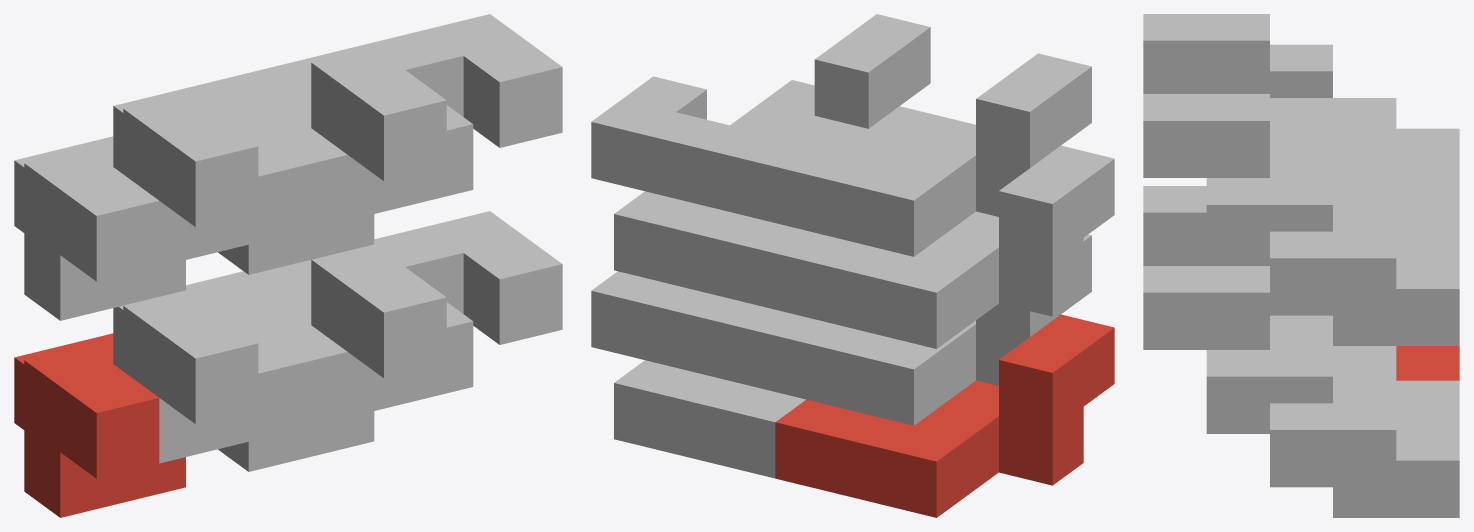
Rendered from tiling.obj.
The picture shows the model from 3 angles, left to right: view 1: azimuth 30°, elevation 25°; view 2: azimuth 150°, elevation 25°; view 3: azimuth 270°, elevation 25°; orthographic projection. The views are drawn at different scales.
Parts seen in each view (by area): view 1: copy_1_domain_8, copy_1_domain_6, copy_1_domain_4, copy_1_domain_2, copy_1_domain_1, copy_1_domain_3, copy_1_domain_5, copy_1_domain_7; view 2: copy_1_domain_1, copy_1_domain_3, copy_1_domain_4, copy_1_domain_8, copy_1_domain_2, copy_1_domain_7, copy_1_domain_5, copy_1_domain_6; view 3: copy_1_domain_8, copy_1_domain_6, copy_1_domain_4, copy_1_domain_7, copy_1_domain_5, copy_1_domain_3, copy_1_domain_2, copy_1_domain_1.
Boxes of the visible parts, left/top/right/bottom form: copy_1_domain_8: left=302, top=14, right=562, bottom=220; copy_1_domain_6: left=307, top=211, right=562, bottom=417; copy_1_domain_4: left=113, top=60, right=311, bottom=266; copy_1_domain_2: left=113, top=261, right=311, bottom=463; copy_1_domain_1: left=14, top=333, right=185, bottom=517; copy_1_domain_3: left=14, top=136, right=185, bottom=320; copy_1_domain_5: left=217, top=299, right=374, bottom=471; copy_1_domain_7: left=217, top=102, right=374, bottom=274; copy_1_domain_1: left=775, top=314, right=1114, bottom=517; copy_1_domain_3: left=775, top=145, right=1114, bottom=348; copy_1_domain_4: left=752, top=53, right=1091, bottom=256; copy_1_domain_8: left=591, top=14, right=930, bottom=217; copy_1_domain_2: left=752, top=234, right=1091, bottom=425; copy_1_domain_7: left=614, top=106, right=952, bottom=309; copy_1_domain_5: left=614, top=360, right=805, bottom=478; copy_1_domain_6: left=591, top=271, right=778, bottom=386; copy_1_domain_8: left=1143, top=94, right=1396, bottom=315; copy_1_domain_6: left=1143, top=266, right=1396, bottom=487; copy_1_domain_4: left=1143, top=14, right=1396, bottom=177; copy_1_domain_7: left=1270, top=124, right=1459, bottom=345; copy_1_domain_5: left=1270, top=315, right=1459, bottom=517; copy_1_domain_3: left=1270, top=44, right=1459, bottom=208; copy_1_domain_2: left=1143, top=186, right=1396, bottom=349; copy_1_domain_1: left=1396, top=346, right=1459, bottom=380.
Size of the model in its own units: 8 by 6 by 5.
